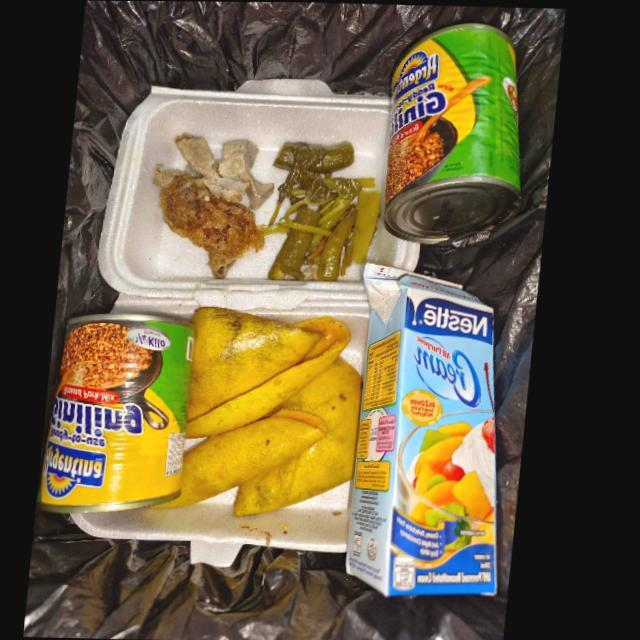aluminum: (384, 22, 524, 244), (46, 313, 201, 513)
left_over_food: (161, 173, 268, 279), (155, 132, 277, 209)
